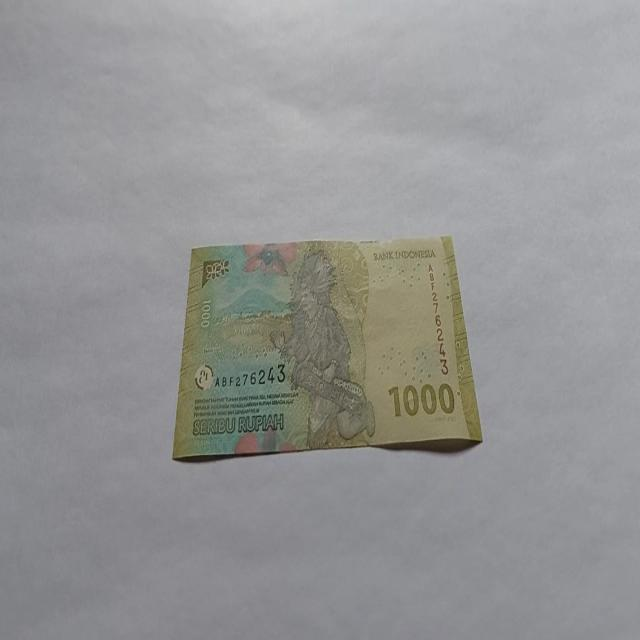seribu rupiah kertas: (171, 232, 483, 462)
